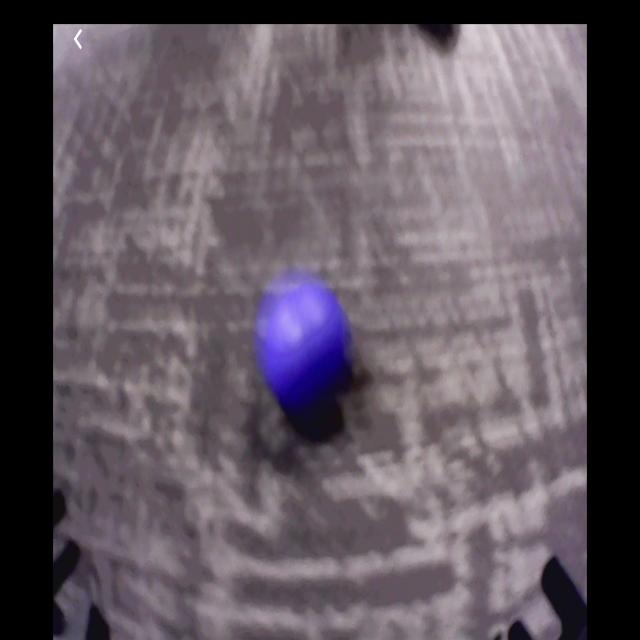ball: (262, 285, 343, 405)
